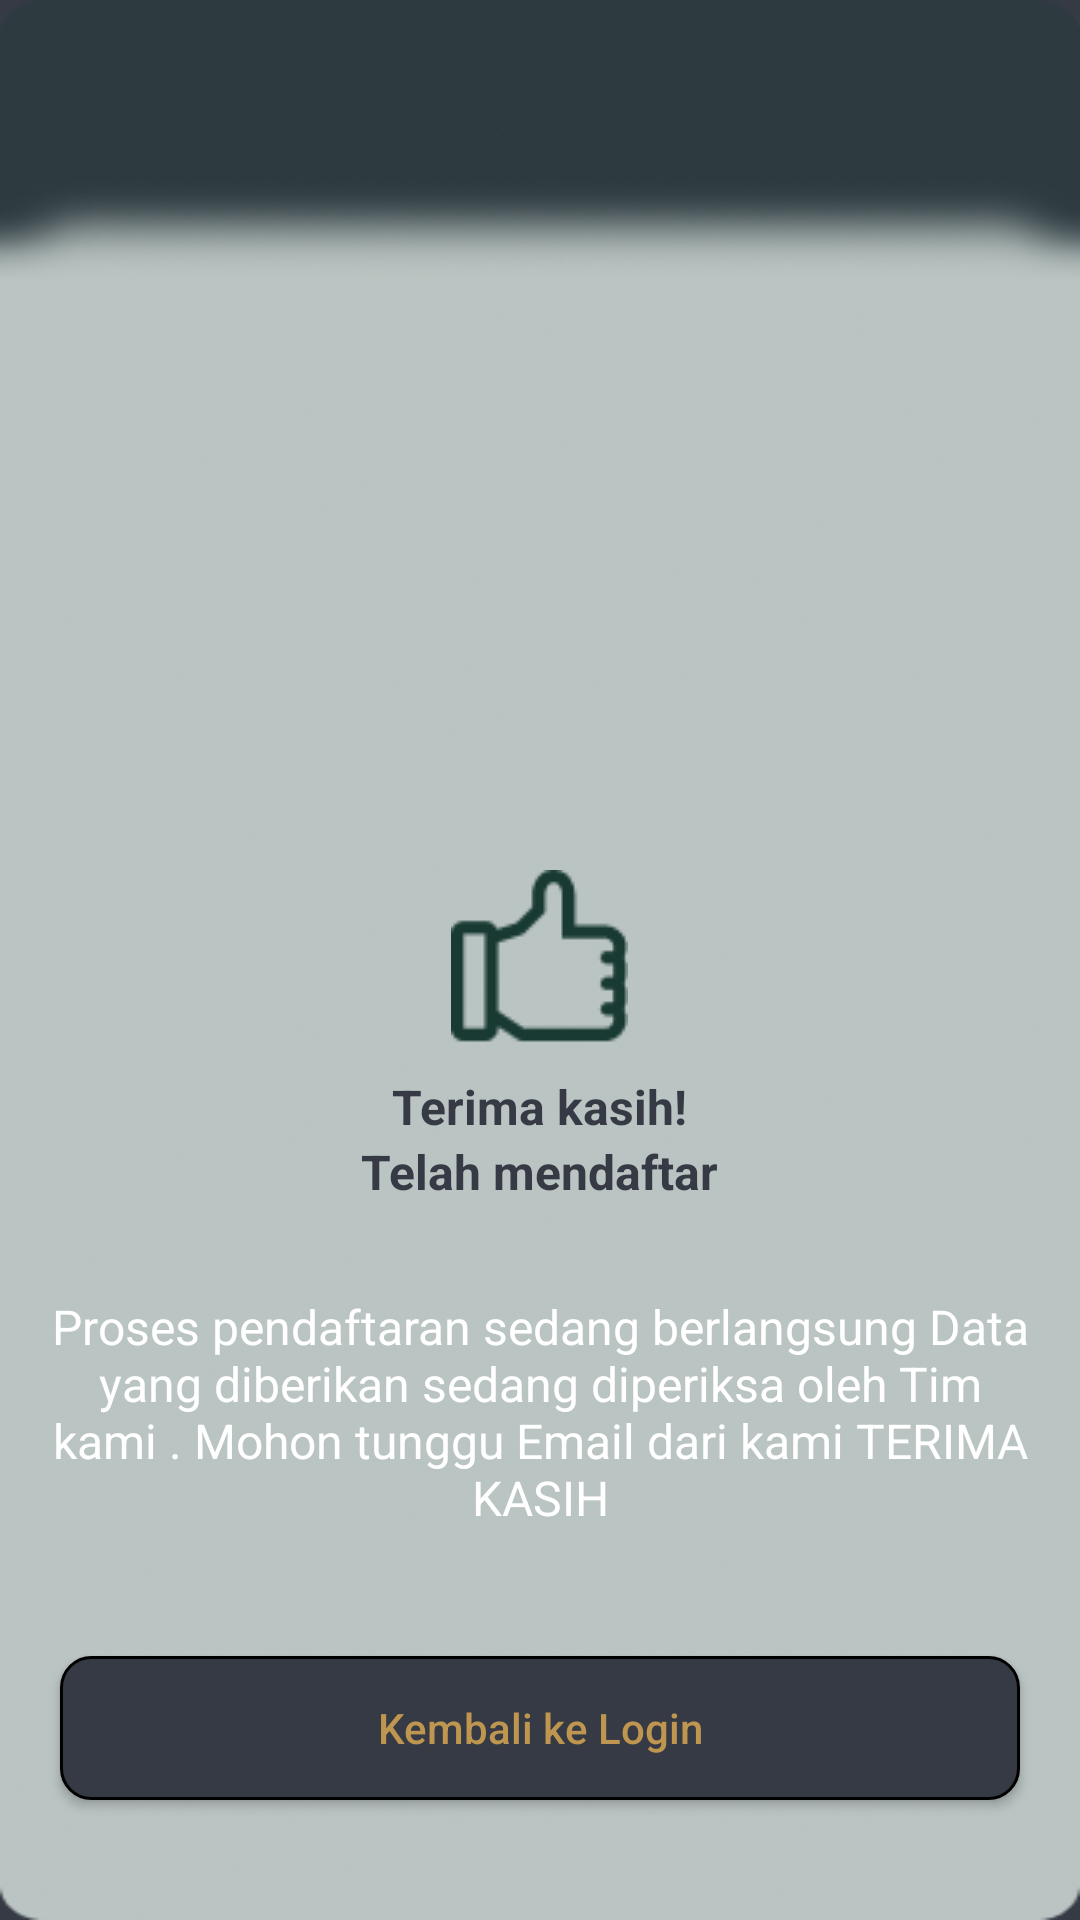

Where to tap for icons on this 1080px×1920px app screen, as point (x, y):
hand: point (539, 956)
